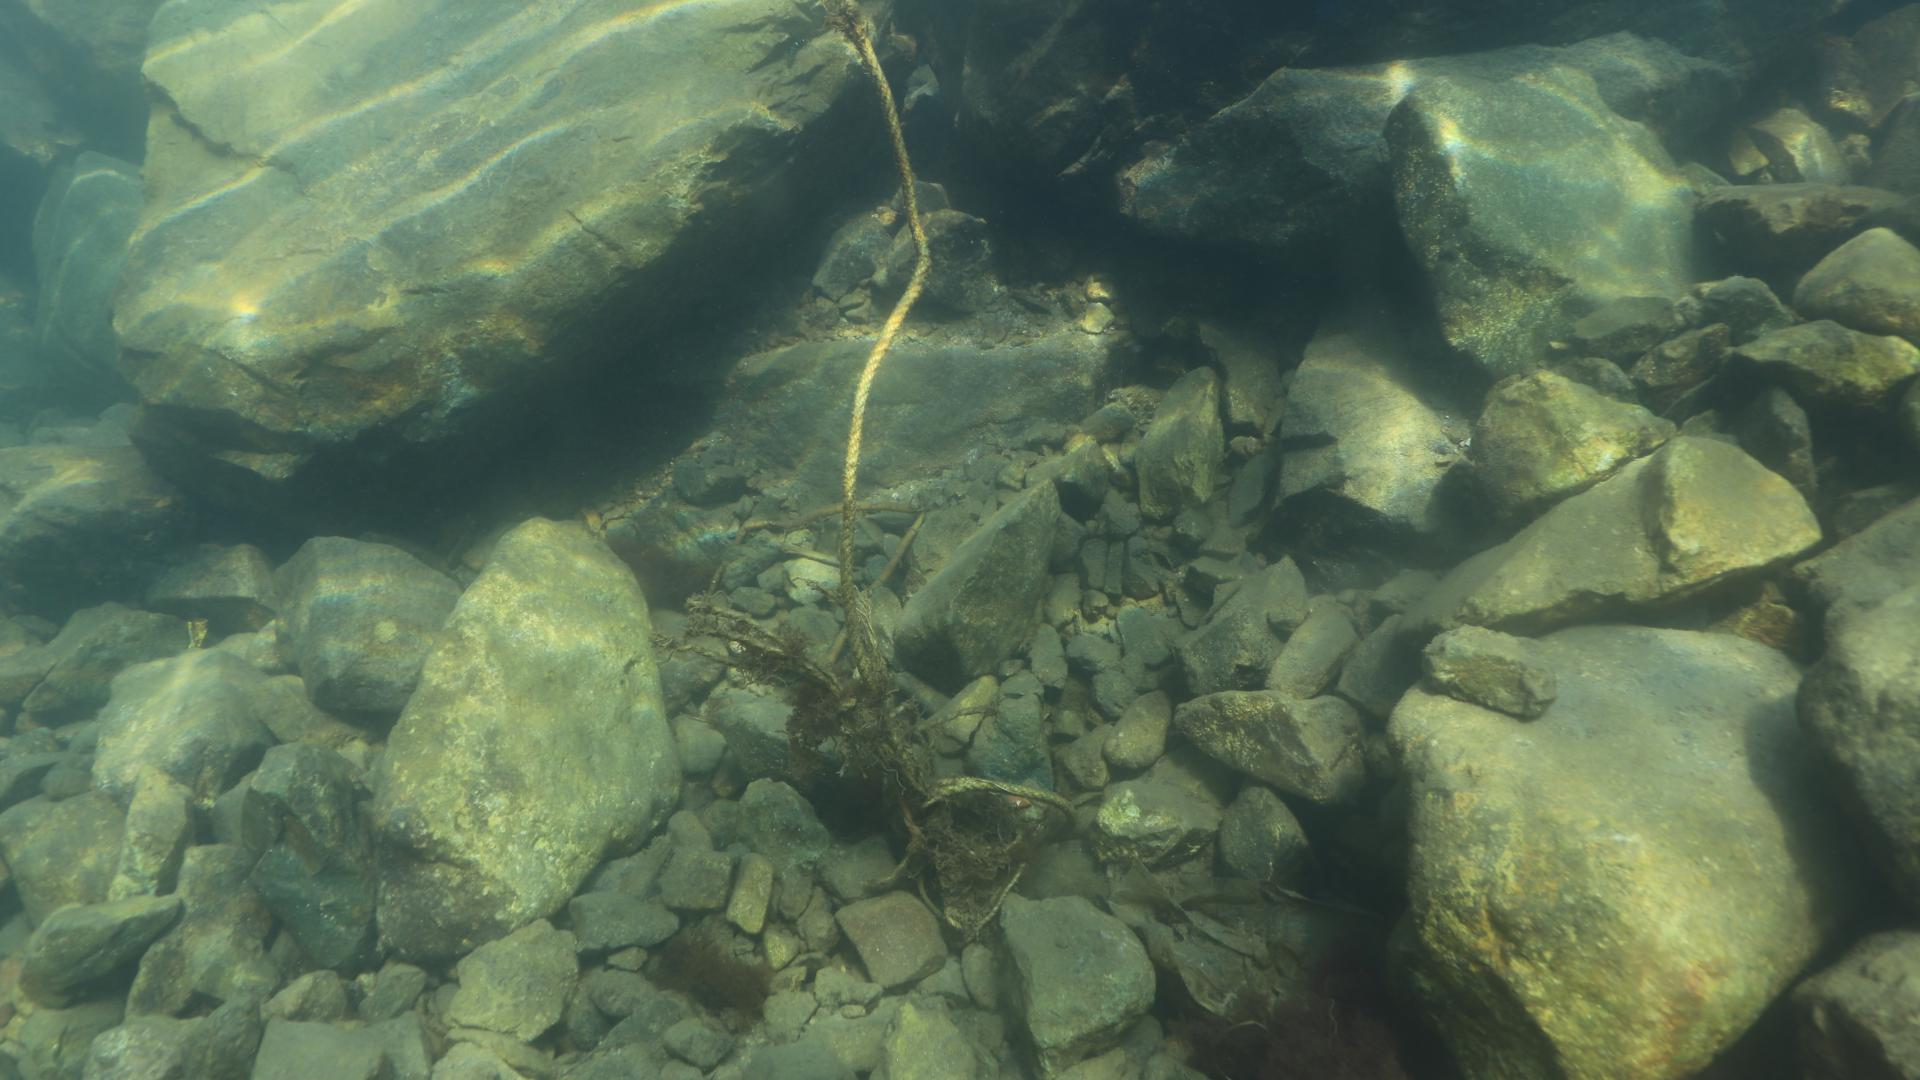bundle of ropes: (684, 36, 1081, 825)
